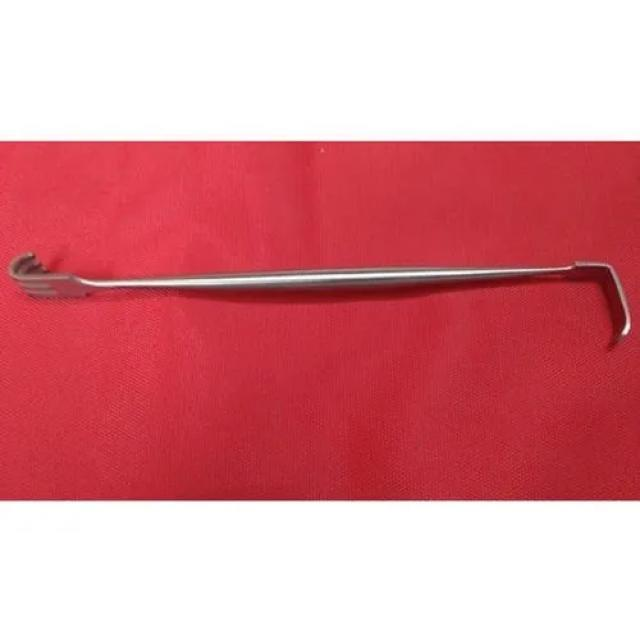Senn Retractor: (3, 232, 635, 360)
